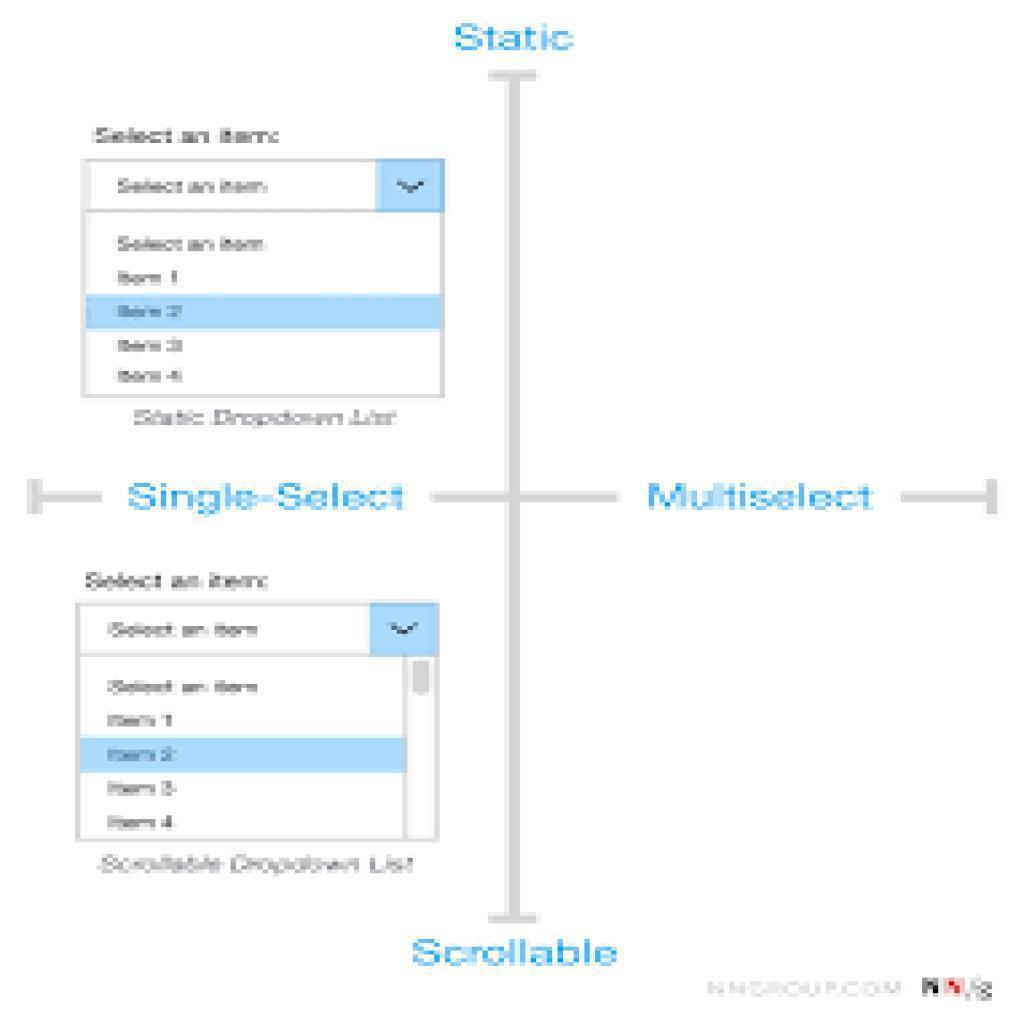button: (84, 293, 438, 332), (74, 736, 407, 773)
dropdown: (76, 605, 439, 657), (86, 159, 443, 210)
